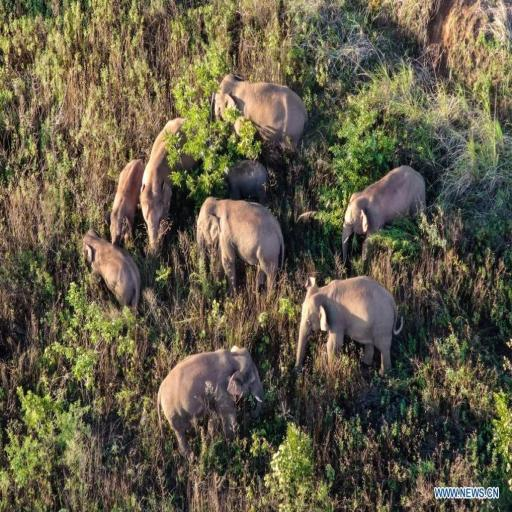Elephant: (158, 348, 263, 454), (296, 276, 402, 373), (197, 198, 284, 294), (342, 167, 425, 259), (215, 77, 307, 147)
